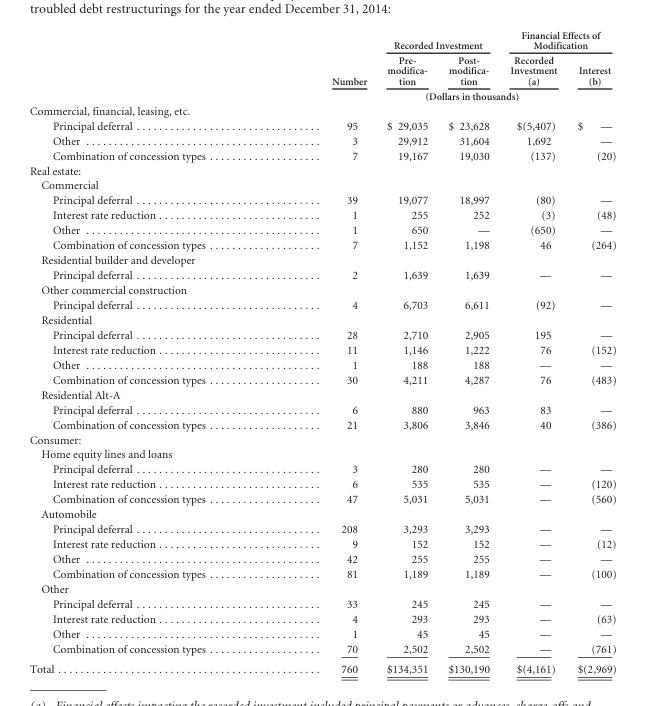table: (28, 29, 615, 674)
table column: (28, 29, 268, 674), (268, 29, 376, 674), (499, 29, 566, 674), (437, 29, 499, 674), (376, 29, 437, 674), (566, 29, 615, 674)
table column header: (28, 29, 615, 102)
table projected row header: (28, 102, 615, 118), (28, 162, 615, 177), (28, 177, 615, 192), (28, 252, 615, 267), (28, 282, 615, 297), (28, 312, 615, 327), (28, 386, 615, 401), (28, 431, 615, 446), (28, 446, 615, 461), (28, 506, 615, 521), (28, 581, 615, 596)
table row: (28, 52, 615, 88), (28, 29, 615, 52), (28, 641, 615, 658), (28, 102, 615, 118), (28, 658, 615, 674), (28, 132, 615, 147), (28, 147, 615, 162), (28, 162, 615, 177), (28, 177, 615, 192), (28, 192, 615, 207), (28, 207, 615, 222), (28, 222, 615, 237), (28, 237, 615, 252), (28, 252, 615, 267), (28, 267, 615, 282), (28, 282, 615, 297), (28, 297, 615, 312), (28, 312, 615, 327), (28, 327, 615, 342), (28, 342, 615, 357), (28, 357, 615, 372), (28, 386, 615, 401), (28, 401, 615, 416), (28, 416, 615, 431), (28, 431, 615, 446), (28, 446, 615, 461), (28, 461, 615, 476), (28, 476, 615, 491), (28, 491, 615, 506), (28, 506, 615, 521), (28, 521, 615, 536), (28, 536, 615, 551), (28, 551, 615, 566), (28, 566, 615, 581), (28, 581, 615, 596), (28, 596, 615, 611), (28, 611, 615, 626), (28, 626, 615, 641), (28, 88, 615, 102), (28, 118, 615, 132), (28, 372, 615, 386)
table spanning cell: (268, 29, 376, 88), (268, 88, 615, 102), (376, 29, 499, 52), (499, 29, 615, 52)
